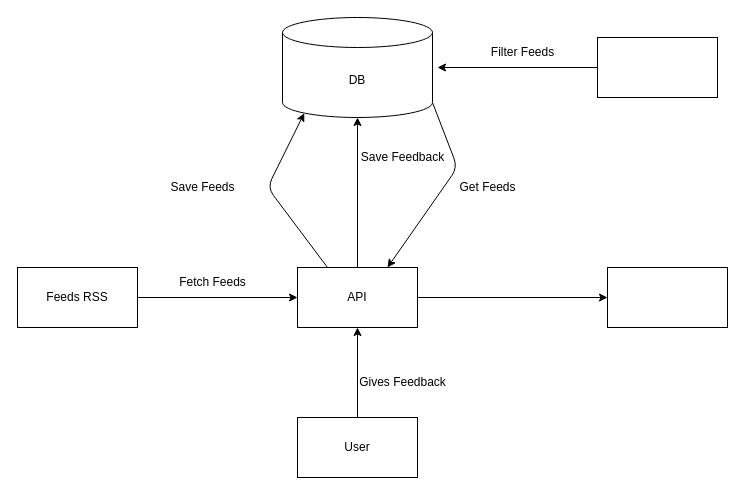
Some shapes in this 745 by 495 pixel diagram are drawn without their labels. The shapes that lost their labels are listed below. From the top down, each one's box as (x1, y1, x2, y2) in pixels, then its label:
(596, 36, 718, 98): Filtering IA
(606, 266, 728, 328): Nuevo Feed
